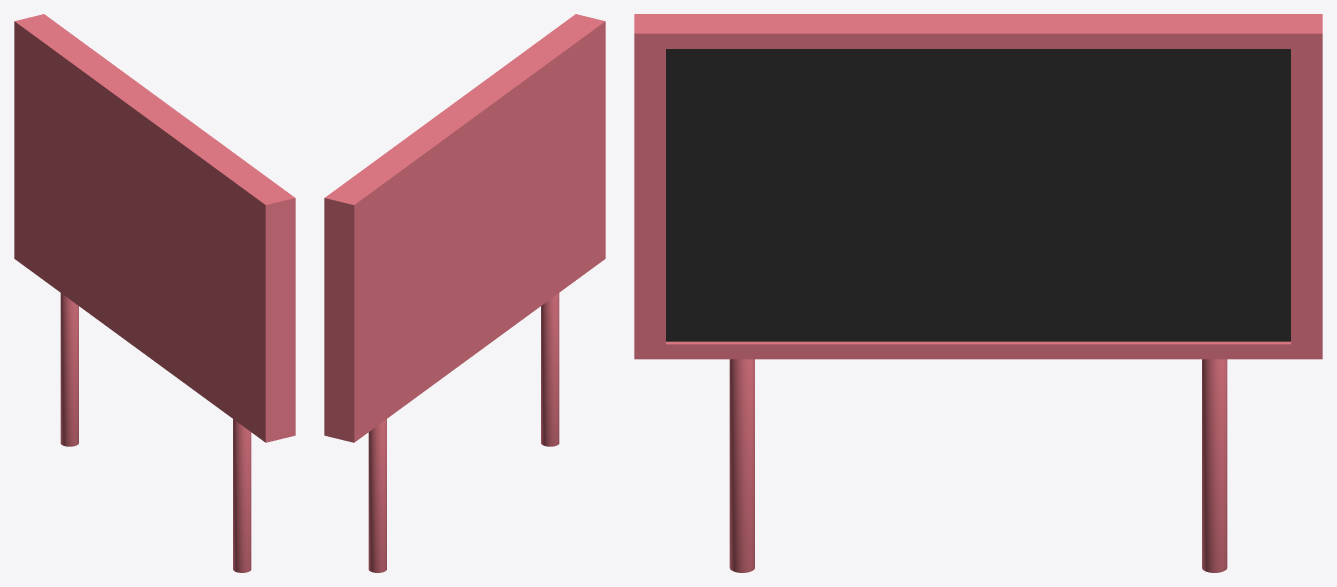
The model's file is Billboard.fbx.
The picture shows the model from 3 angles, left to right: view 1: azimuth 30°, elevation 25°; view 2: azimuth 150°, elevation 25°; view 3: azimuth 270°, elevation 25°; orthographic projection. The views are drawn at different scales.
Visible parts, largest first — view 1: Billboard, Stand; view 2: Billboard, Stand; view 3: Billboard, Stand.
Boxes of the visible parts, x1=… form: Billboard: x1=14, y1=14, x2=295, y2=442; Stand: x1=60, y1=293, x2=251, y2=572; Billboard: x1=324, y1=14, x2=605, y2=442; Stand: x1=368, y1=293, x2=559, y2=572; Billboard: x1=634, y1=14, x2=1322, y2=359; Stand: x1=729, y1=359, x2=1227, y2=572.
Size of the model in its own units: 69.13 by 883 by 1014.
